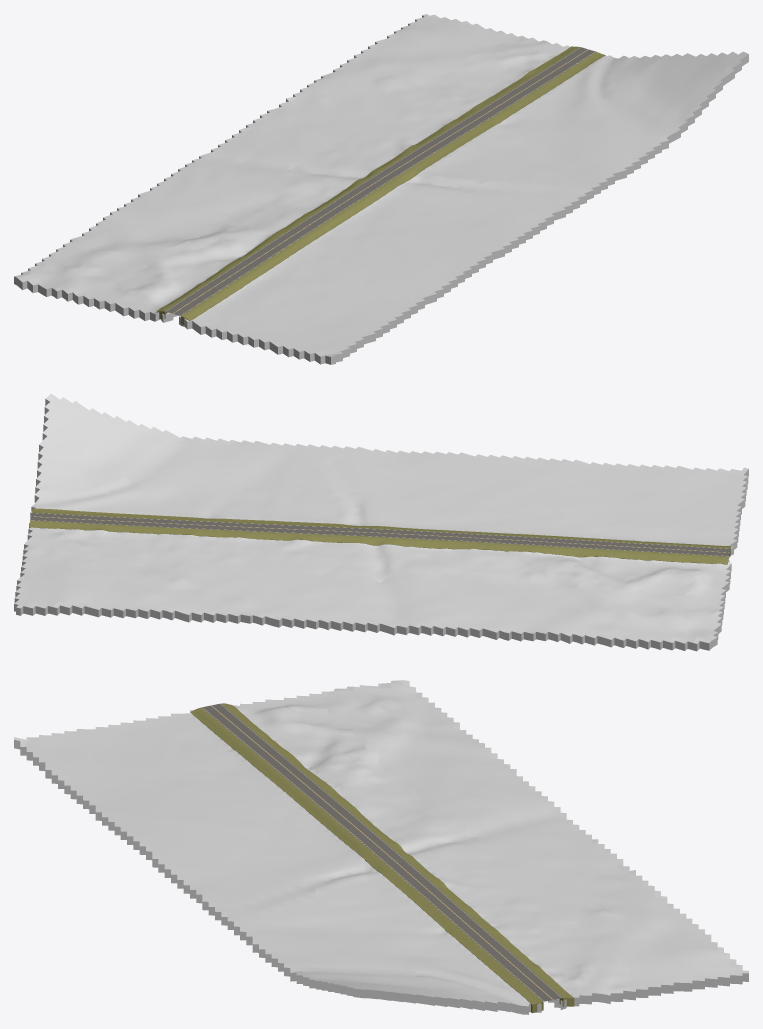
Rendered from conz_45.glb.
The picture shows the model from 3 angles, top to bottom: view 1: azimuth 30°, elevation 25°; view 2: azimuth 150°, elevation 25°; view 3: azimuth 270°, elevation 25°; orthographic projection. The views are drawn at different scales.
Parts seen in each view (by area): view 1: terrain45, road45, verge45R, verge45L, paint_white45; view 2: terrain45, road45, verge45L, verge45R, paint_white45, paint_yellow45; view 3: terrain45, road45, verge45R, verge45L, paint_white45, paint_yellow45.
Boxes of the visible parts, x1,y1,x2,y2 form: terrain45: [14, 14, 748, 364]; road45: [165, 47, 595, 315]; verge45R: [181, 52, 605, 324]; verge45L: [156, 46, 580, 318]; paint_white45: [167, 47, 595, 315]; terrain45: [14, 393, 748, 651]; road45: [30, 512, 729, 556]; verge45L: [29, 520, 728, 564]; verge45R: [32, 508, 731, 556]; paint_white45: [32, 512, 728, 556]; paint_yellow45: [31, 516, 729, 552]; terrain45: [14, 680, 748, 1014]; road45: [202, 703, 562, 1001]; verge45R: [190, 707, 543, 1013]; verge45L: [221, 703, 574, 1006]; paint_white45: [202, 704, 561, 1001]; paint_yellow45: [211, 705, 553, 999].
Size of the model in its own units: 288 by 29.71 by 234.
